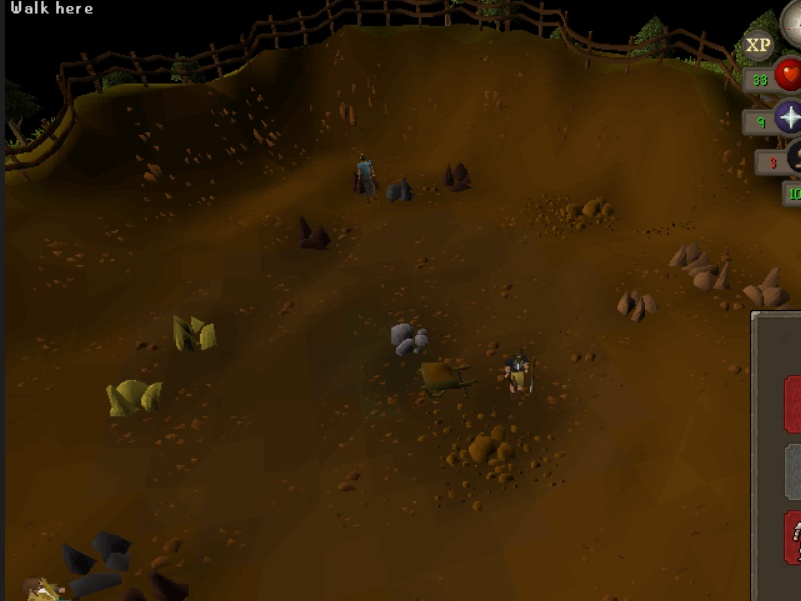copper: (743, 262, 801, 316), (615, 279, 664, 327), (691, 255, 735, 294), (670, 237, 710, 275)
gold: (100, 378, 172, 422), (164, 306, 222, 355)
iron: (440, 157, 486, 198), (290, 214, 340, 251)
